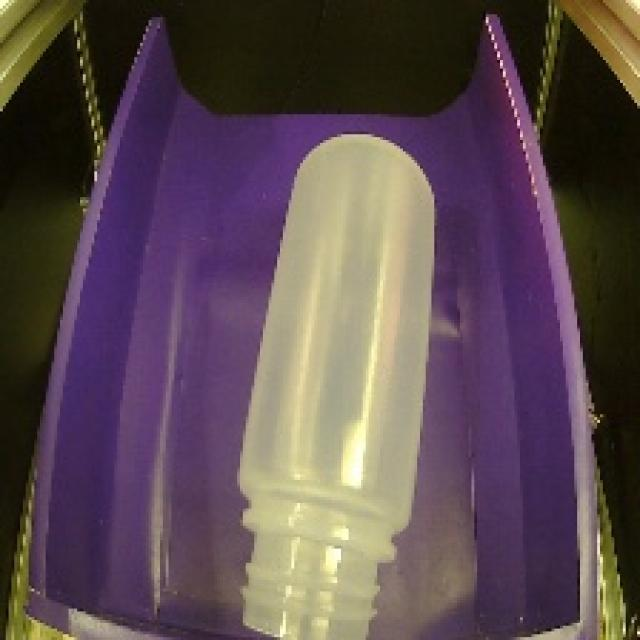plastic: (214, 125, 458, 640)
